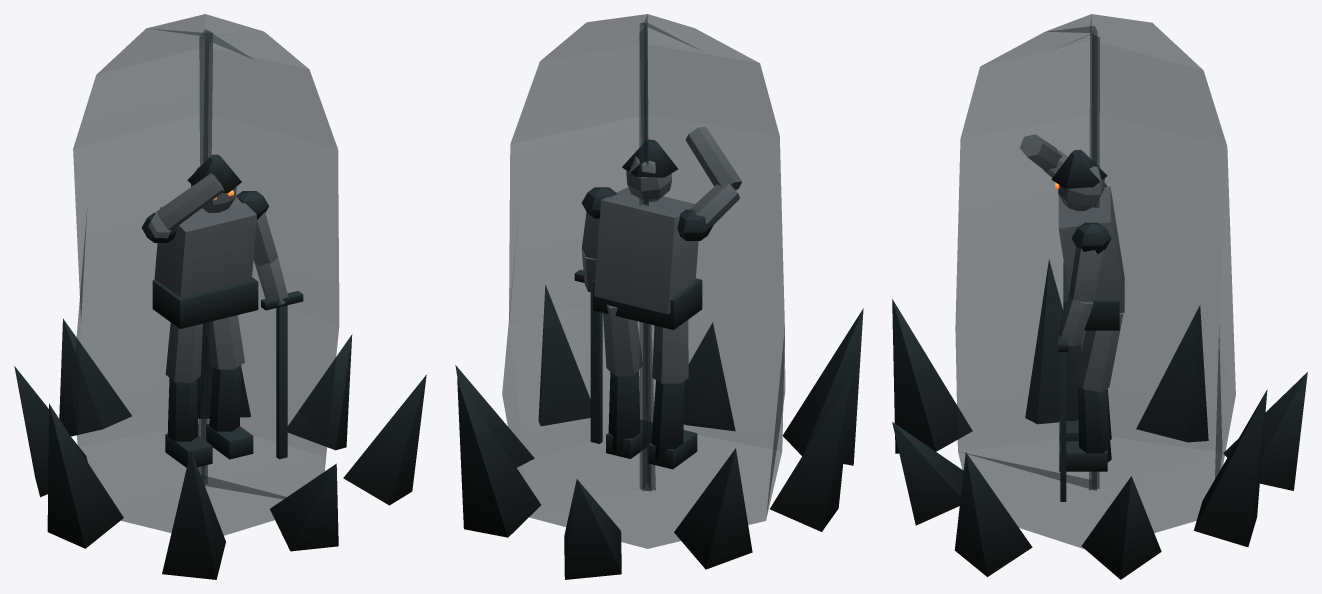
The model's file is glass_entombed.glb.
3 renders of one model, left to right at view 1: azimuth 30°, elevation 25°; view 2: azimuth 150°, elevation 25°; view 3: azimuth 270°, elevation 25°, orthographic. The views are drawn at different scales.
Parts seen in each view (by area): view 1: glass_entombed; view 2: glass_entombed; view 3: glass_entombed.
Part boxes in pixels (x1,y1,x2,y2): glass_entombed: [14, 14, 426, 579]; glass_entombed: [455, 14, 863, 579]; glass_entombed: [892, 14, 1307, 579].
Bounding box in the file's own units: 2.02 × 2.61 × 2.06.
4 materials, 4 textured.
